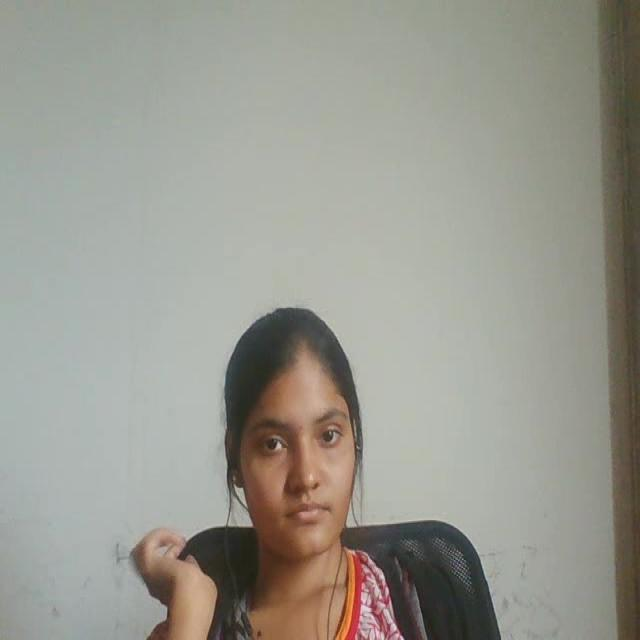Bored: (215, 280, 406, 576)
